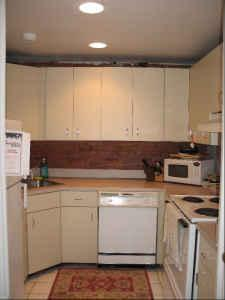Electrodomestico: (98, 186, 159, 265), (5, 120, 25, 294), (165, 195, 196, 297)
